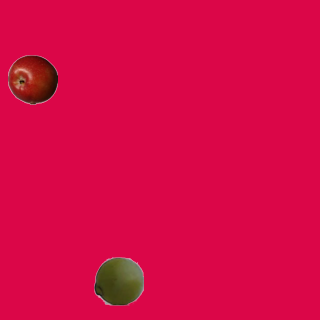Apple Braeburn: (7, 54, 57, 104)
Grape White 4: (93, 255, 143, 305)
